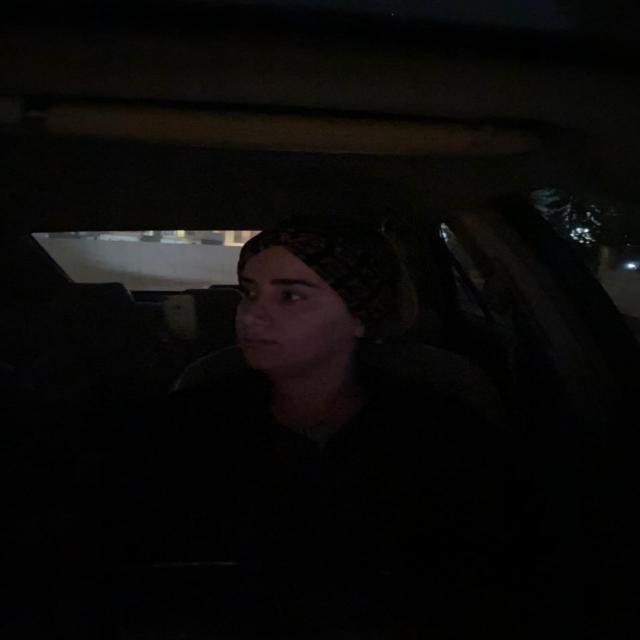person: (221, 233, 371, 380)
